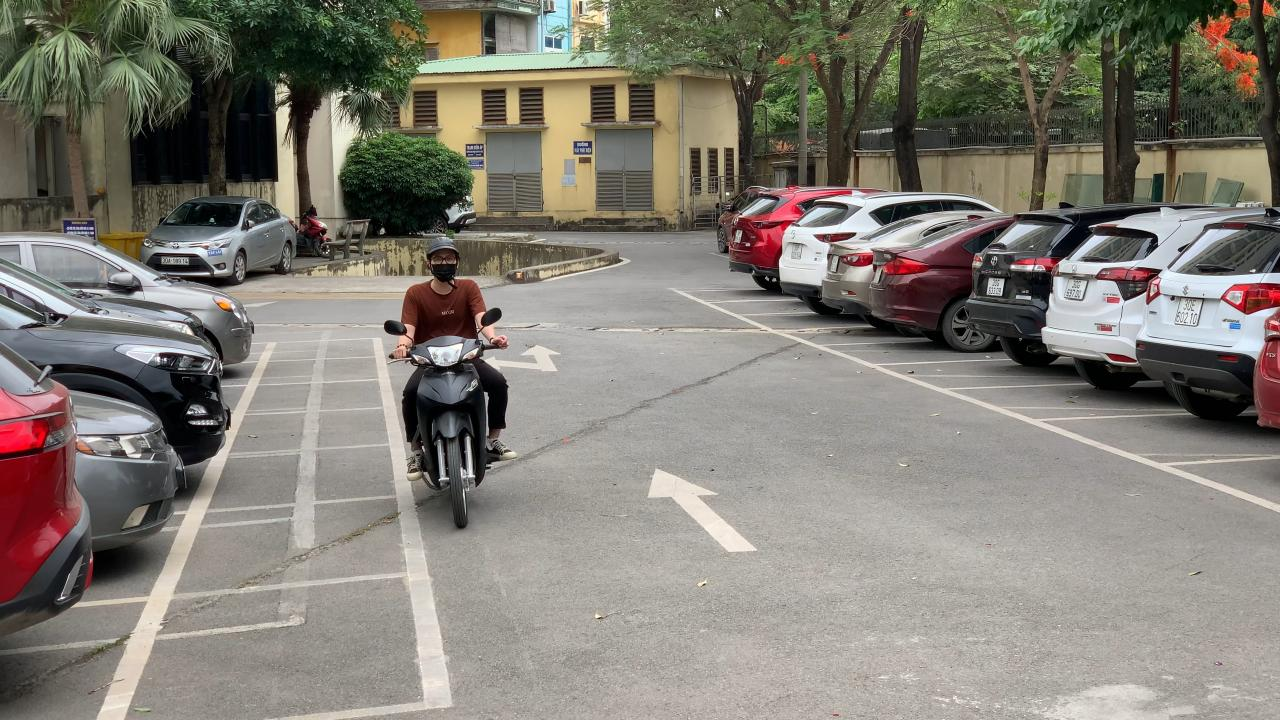helmet: (427, 238, 463, 263)
motorcyclist: (382, 236, 523, 526)
